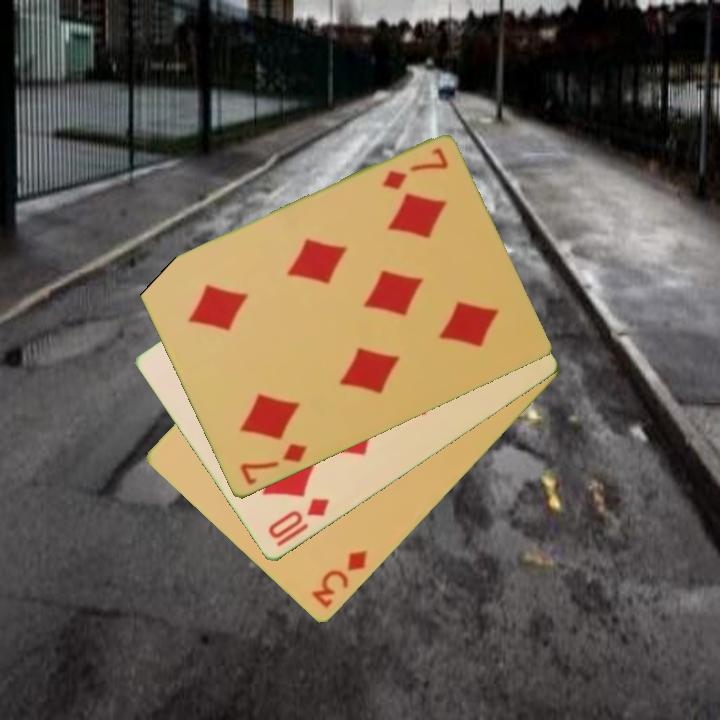10d: (264, 495, 333, 543)
3d: (308, 546, 371, 612)
7d: (237, 440, 310, 489), (378, 145, 451, 193)
